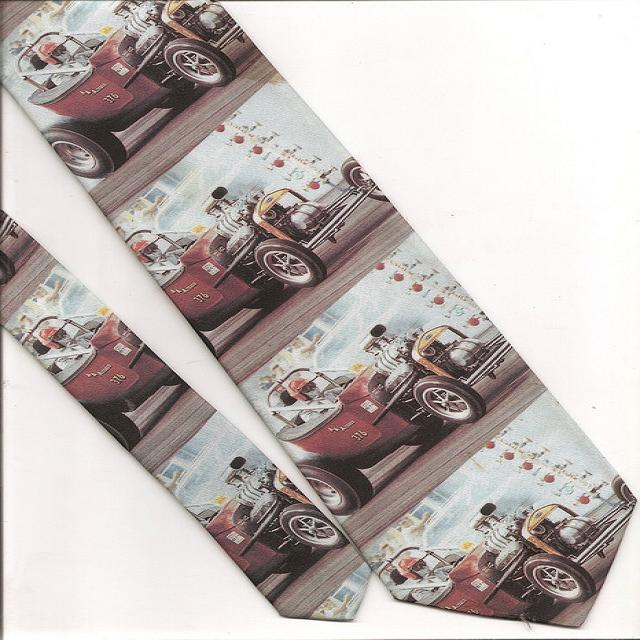Vehicle: (126, 157, 388, 361), (268, 326, 511, 522), (9, 0, 244, 182), (380, 473, 640, 623), (185, 454, 351, 589), (22, 312, 184, 449), (0, 206, 38, 284)
